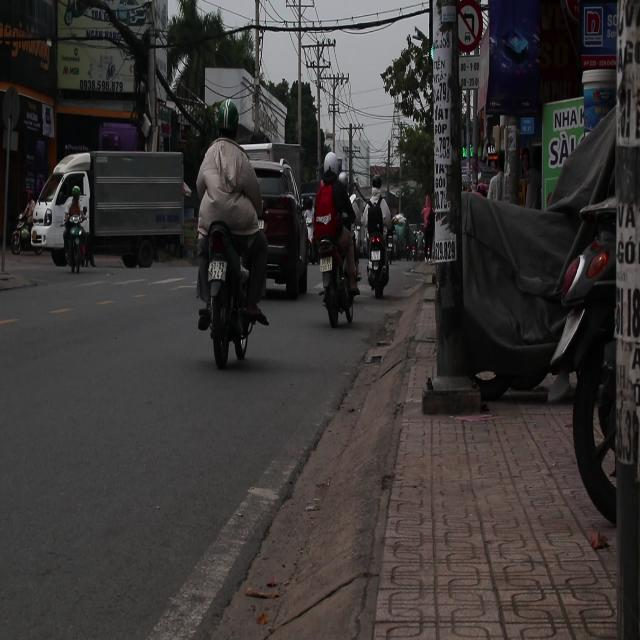car: (251, 159, 309, 300)
motorbike: (197, 220, 257, 370), (317, 230, 361, 328), (362, 194, 396, 298), (60, 208, 89, 279), (10, 198, 36, 256)
truck: (23, 150, 191, 272)
